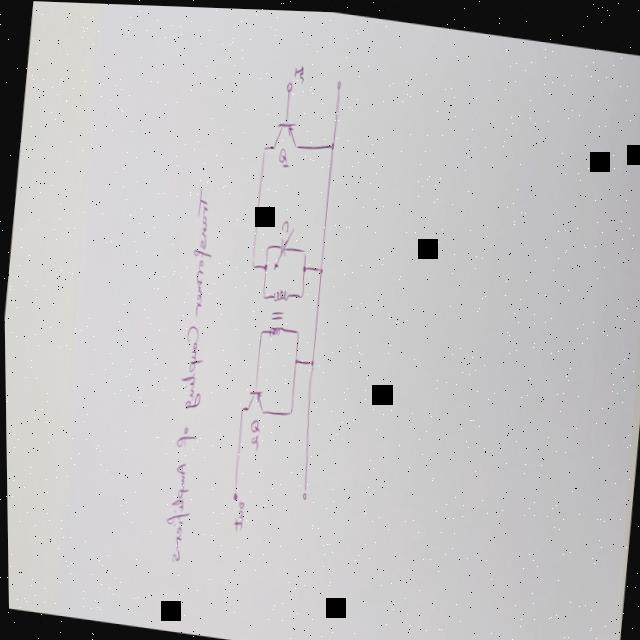capacitor: (270, 216, 294, 271)
junction: (260, 257, 267, 271), (314, 262, 322, 272), (306, 355, 312, 365), (327, 138, 333, 148), (248, 257, 254, 267), (299, 262, 305, 270), (291, 354, 296, 362), (300, 246, 305, 254), (237, 402, 242, 410), (256, 326, 261, 334), (260, 142, 265, 150), (259, 290, 264, 298), (293, 325, 298, 332), (296, 290, 301, 297), (286, 405, 291, 412), (263, 242, 268, 249)
terminal: (284, 77, 291, 91), (229, 485, 235, 499), (334, 76, 340, 88), (299, 485, 305, 497)
text: (153, 181, 222, 565), (228, 495, 243, 532), (245, 414, 259, 450), (276, 144, 290, 167), (292, 59, 304, 83), (278, 216, 287, 231)
transformer: (265, 284, 288, 337)
transistor: (270, 116, 298, 151), (242, 383, 264, 414)
